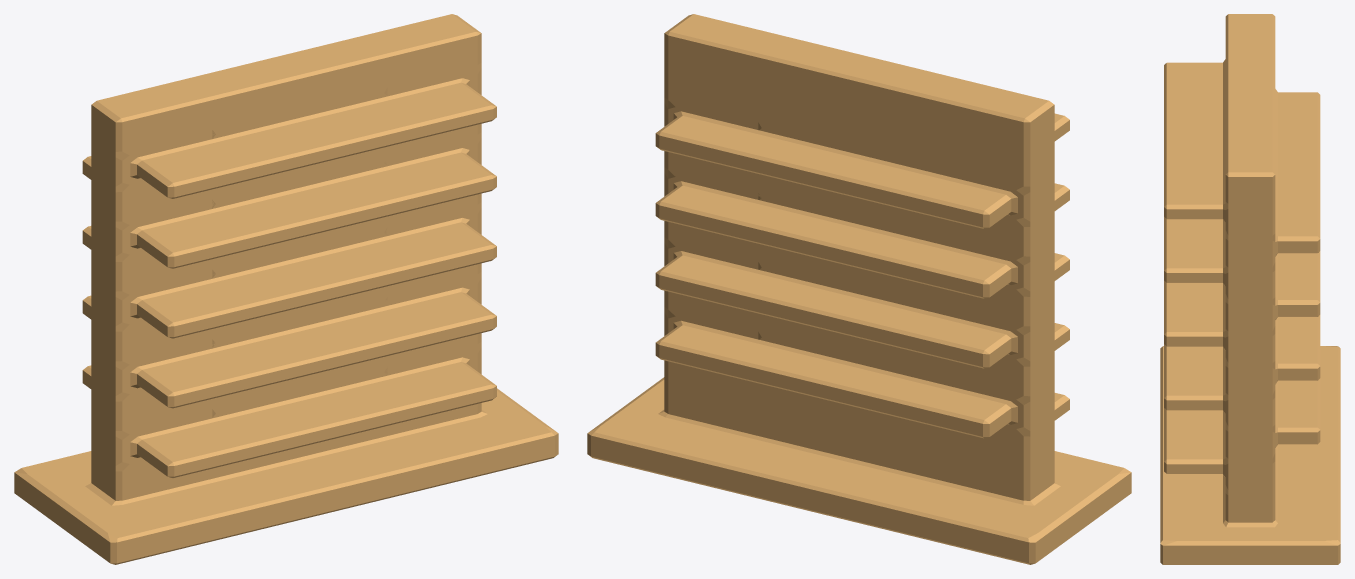
File: reyon.fbx
The picture shows the model from 3 angles, left to right: view 1: azimuth 30°, elevation 25°; view 2: azimuth 150°, elevation 25°; view 3: azimuth 270°, elevation 25°; orthographic projection. The views are drawn at different scales.
Parts seen in each view (by area): view 1: reyon_1, reyon; view 2: reyon_1, reyon; view 3: reyon_1, reyon.
Part boxes in pixels (box(x1,y1,x2,y2)): reyon_1: box(14, 14, 558, 564); reyon: box(187, 36, 443, 537); reyon_1: box(587, 14, 1131, 564); reyon: box(702, 36, 958, 537); reyon_1: box(1160, 14, 1340, 564); reyon: box(1160, 54, 1340, 491).
Bounding box in the file's own units: 405 × 354 × 155.
